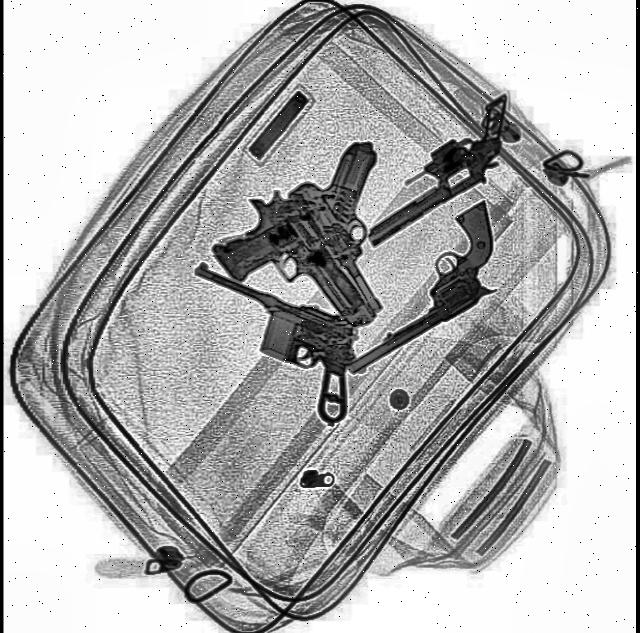Gun: (312, 203, 520, 380), (202, 174, 377, 381), (166, 263, 370, 428), (286, 135, 446, 322), (342, 95, 532, 248)
